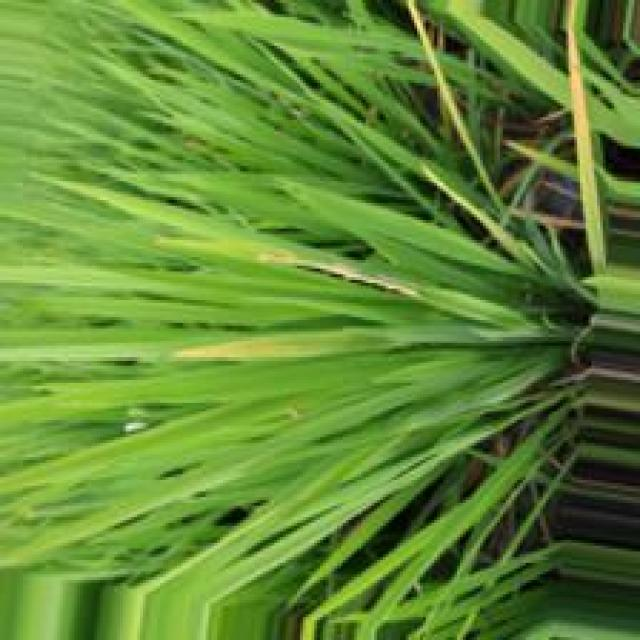HealthyLeaf: (6, 327, 536, 561)
